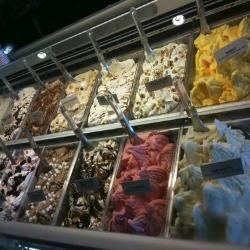icecream: (60, 128, 180, 230), (81, 37, 196, 123), (4, 67, 103, 136)
